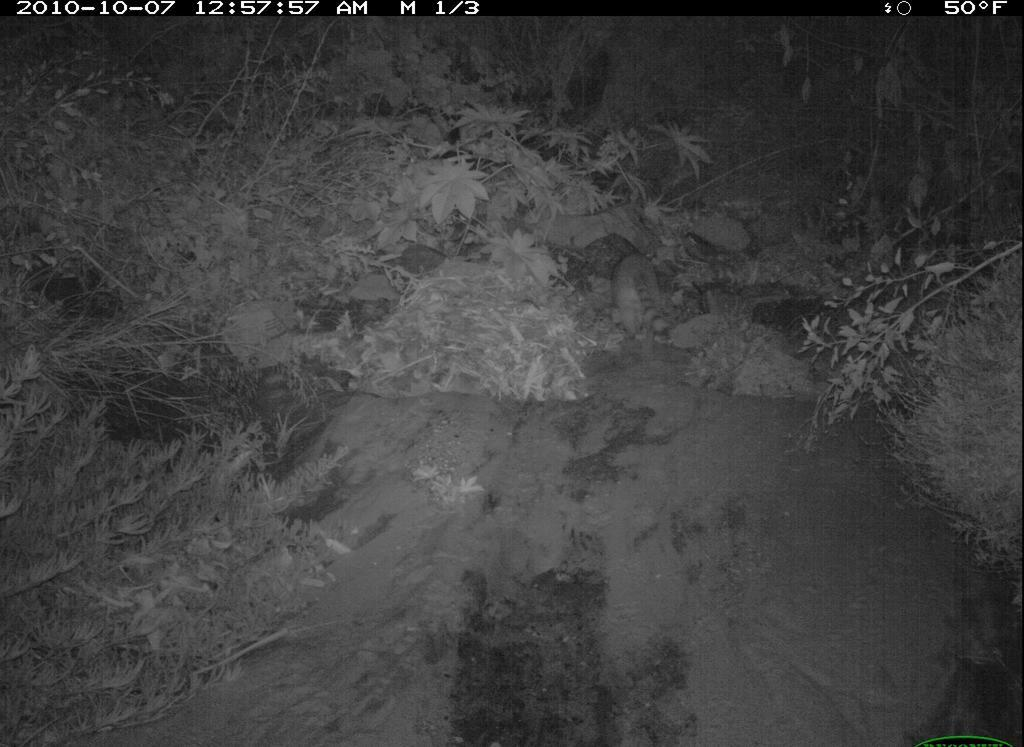raccoon: (601, 244, 683, 356)
